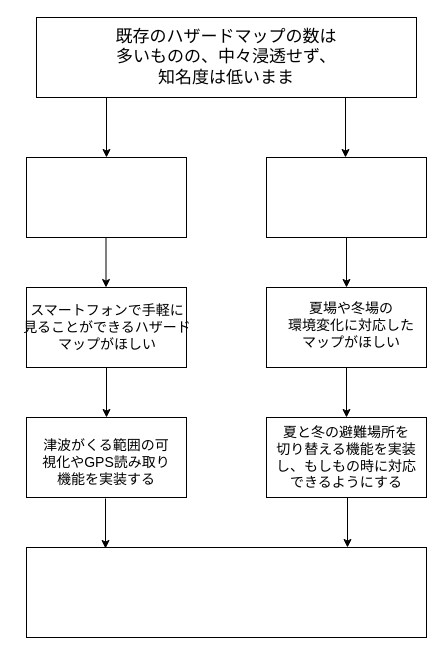
Some shapes in this 444 by 655 pixel diagram are drawn without their labels. The centre of each missing label's shape, as x and y in pixels:
スマートフォンなどの 情報機器を所持 している人: [106,197]
双方の問題を解決可能なハザードマップを作成して、防災意識の向上につなげる: [226,592]
高齢者などの環境の変化に弱い人: [346,197]
